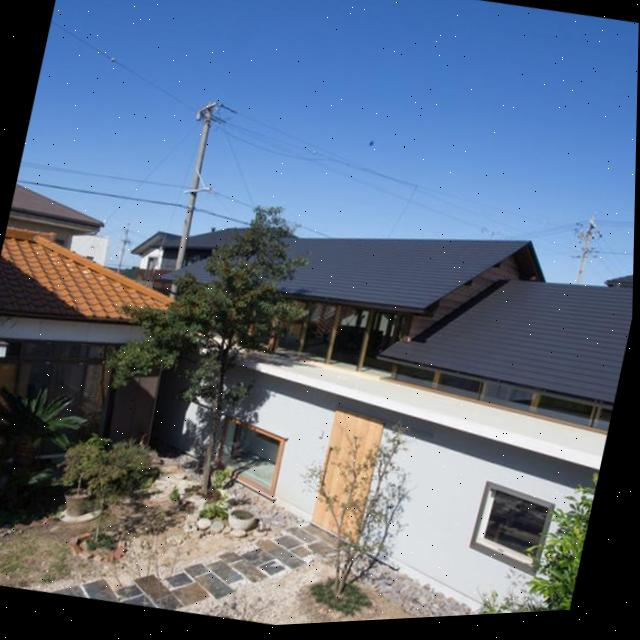building: (0, 136, 636, 640)
